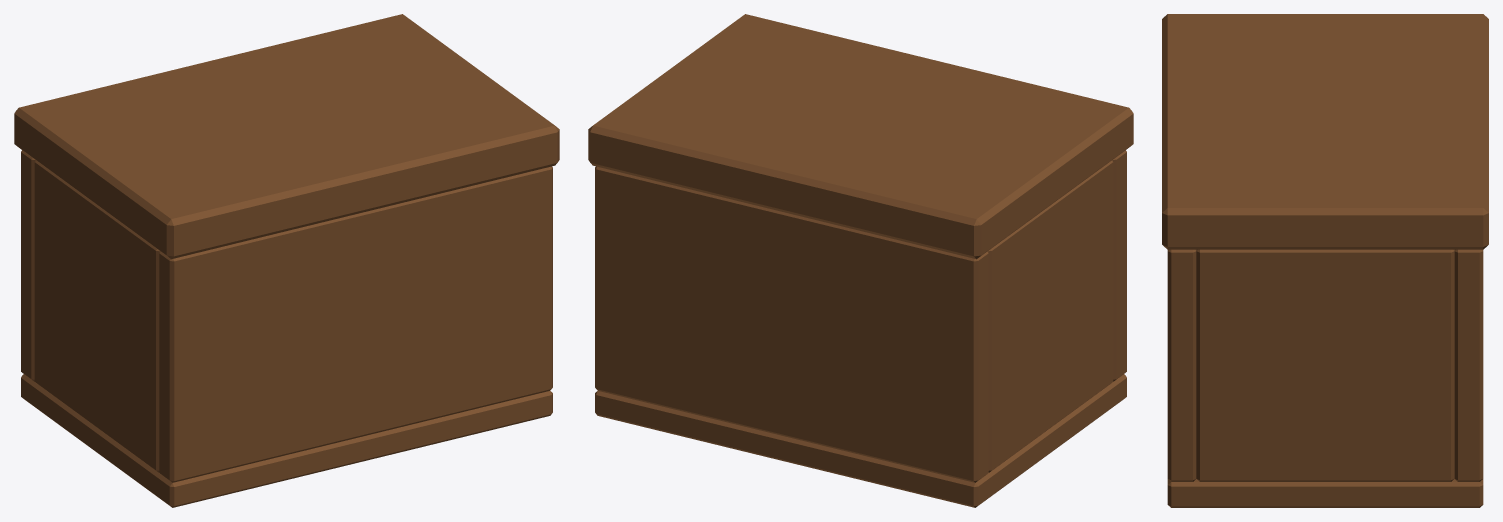
File: Prop_Ash_SeedCache_Closed_LOD1.glb
3 views of the same model, side by side, from view 1: azimuth 30°, elevation 25°; view 2: azimuth 150°, elevation 25°; view 3: azimuth 270°, elevation 25° (orthographic). The views are drawn at different scales.
Parts seen in each view (by area): view 1: Prop_Ash_SeedCache_Closed, Prop_Ash_SeedCache_Closed_Lid; view 2: Prop_Ash_SeedCache_Closed, Prop_Ash_SeedCache_Closed_Lid; view 3: Prop_Ash_SeedCache_Closed, Prop_Ash_SeedCache_Closed_Lid.
Part boxes in pixels (x1,y1,x2,y2): Prop_Ash_SeedCache_Closed: (21,150,552,507); Prop_Ash_SeedCache_Closed_Lid: (14,14,559,259); Prop_Ash_SeedCache_Closed: (595,150,1126,507); Prop_Ash_SeedCache_Closed_Lid: (588,14,1133,259); Prop_Ash_SeedCache_Closed: (1167,249,1483,507); Prop_Ash_SeedCache_Closed_Lid: (1162,14,1488,249).
Bounding box in the file's own units: 0.82 × 0.58 × 0.57.
